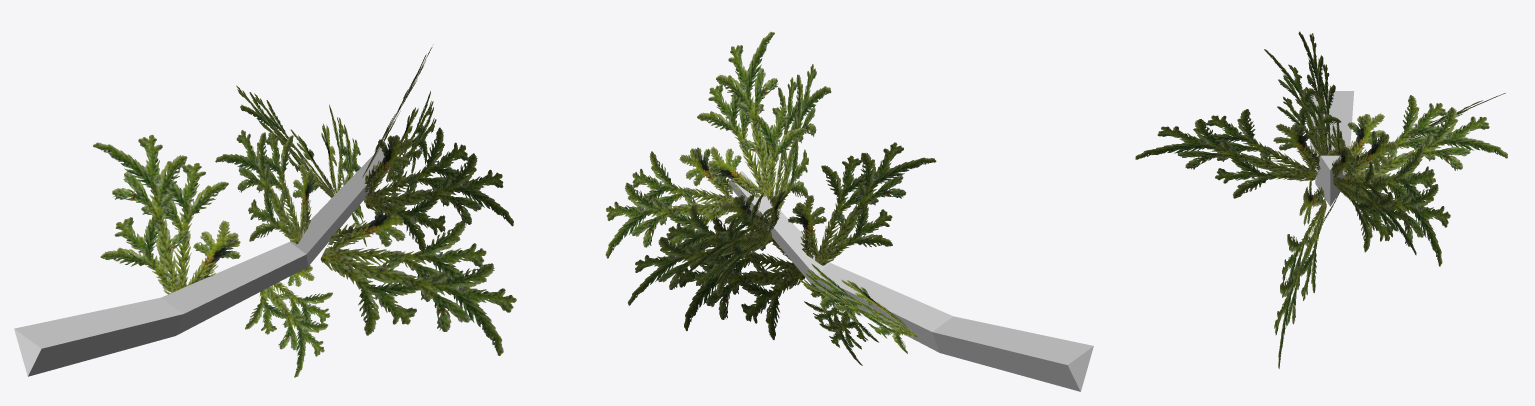
The model's file is sugi_tree_brench.fbx.
3 renders of one model, left to right at view 1: azimuth 30°, elevation 25°; view 2: azimuth 150°, elevation 25°; view 3: azimuth 270°, elevation 25°, orthographic. The views are drawn at different scales.
Parts seen in each view (by area): view 1: Branch, Plane.001, Plane.014, Plane.018, Plane.015, Plane.013, Plane.016, Plane.009, Plane.004; view 2: Branch, Plane.019, Plane.015, Plane.004, Plane.001, Plane.009, Plane.018, Plane.014, Plane.016, Plane.013; view 3: Plane.018, Plane.016, Plane.009, Plane.001, Plane.004, Plane.019, Branch, Plane.015.
Part boxes in pixels (x1,y1,x2,y2): Branch: (14,147,390,376); Plane.001: (320,202,516,355); Plane.014: (93,134,240,294); Plane.018: (364,127,513,253); Plane.015: (215,130,318,244); Plane.013: (245,265,332,377); Plane.016: (236,85,335,197); Plane.009: (321,104,374,246); Plane.004: (386,91,436,196); Branch: (728,171,1093,391); Plane.019: (697,31,806,197); Plane.015: (788,142,936,265); Plane.004: (605,147,733,258); Plane.001: (676,209,804,339); Plane.009: (627,194,771,305); Plane.018: (761,64,831,210); Plane.014: (799,264,917,353); Plane.016: (682,191,788,285); Plane.013: (804,283,878,365); Plane.018: (1135,109,1320,198); Plane.016: (1341,95,1507,206); Plane.009: (1342,130,1450,266); Plane.001: (1274,179,1326,368); Plane.004: (1332,145,1416,255); Plane.019: (1264,49,1353,161); Branch: (1306,91,1354,206); Plane.015: (1298,31,1342,154).
Bounding box in the file's own units: 762 × 533 × 612.
